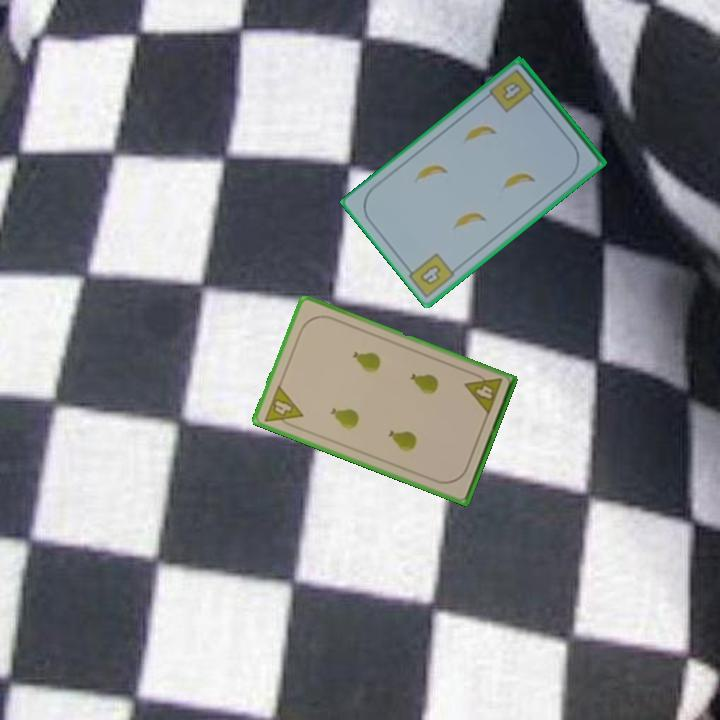4b: (488, 66, 541, 116), (416, 261, 444, 288)
4p: (260, 381, 306, 432), (461, 368, 505, 418)
